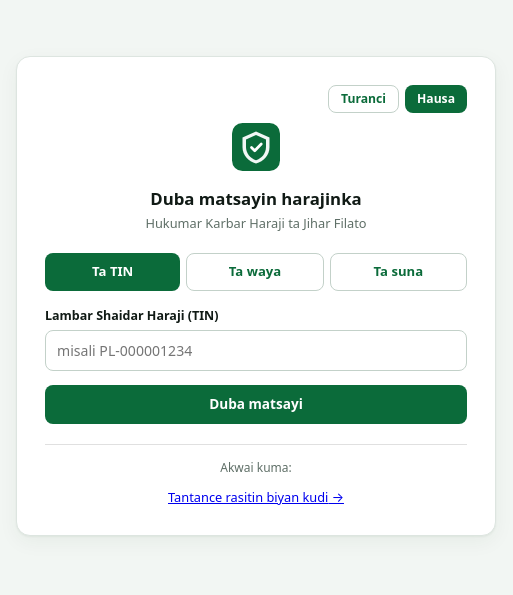
Scenario: a citizen whose name matches several people › counts one match as one, not as five
Click the button "Ta suna": (398, 272) x1=330 y1=253 x2=467 y2=290
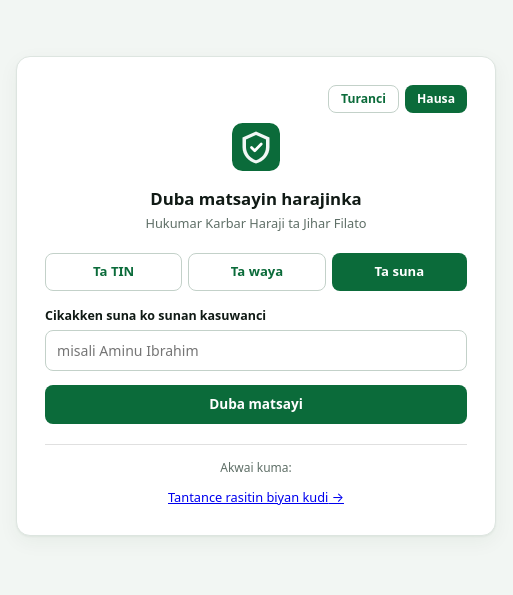
In the field labelled "Cikakken suna ko sunan kasuwanci": (256, 351) x1=45 y1=330 x2=467 y2=371, type "Danjuma"
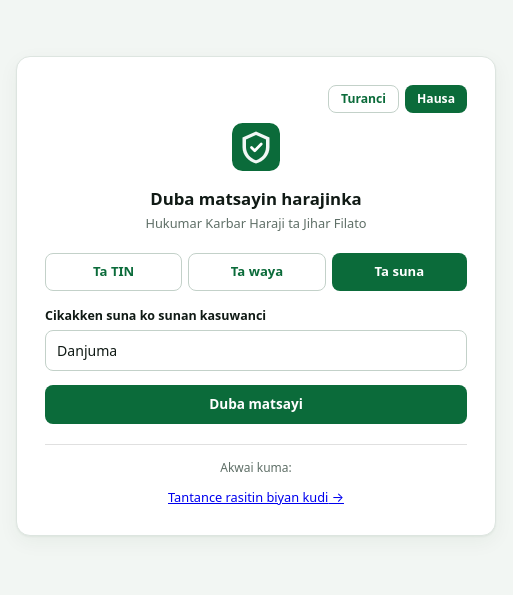
Click the button "Duba matsayi": (256, 405) x1=45 y1=385 x2=467 y2=424
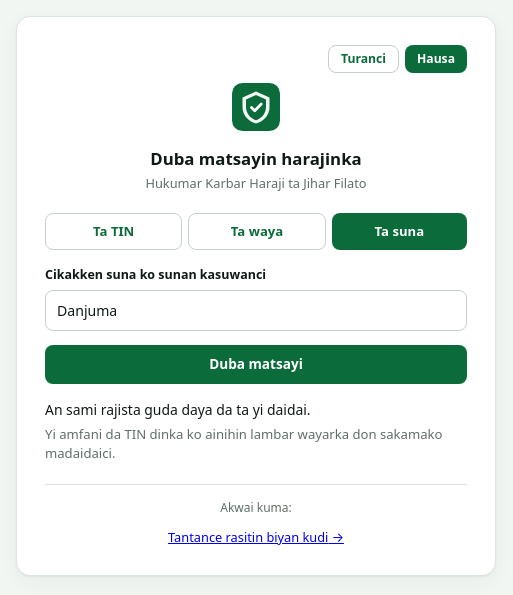
Check: the text "An sami rajista guda daya da ta yi daidai." is shown, box x1=45 y1=400 x2=311 y2=419
Check: the text "Yi amfani da TIN dinka ko ainihin lambar wayarka don sakamako madaidaici." is shown, box x1=45 y1=424 x2=467 y2=464
